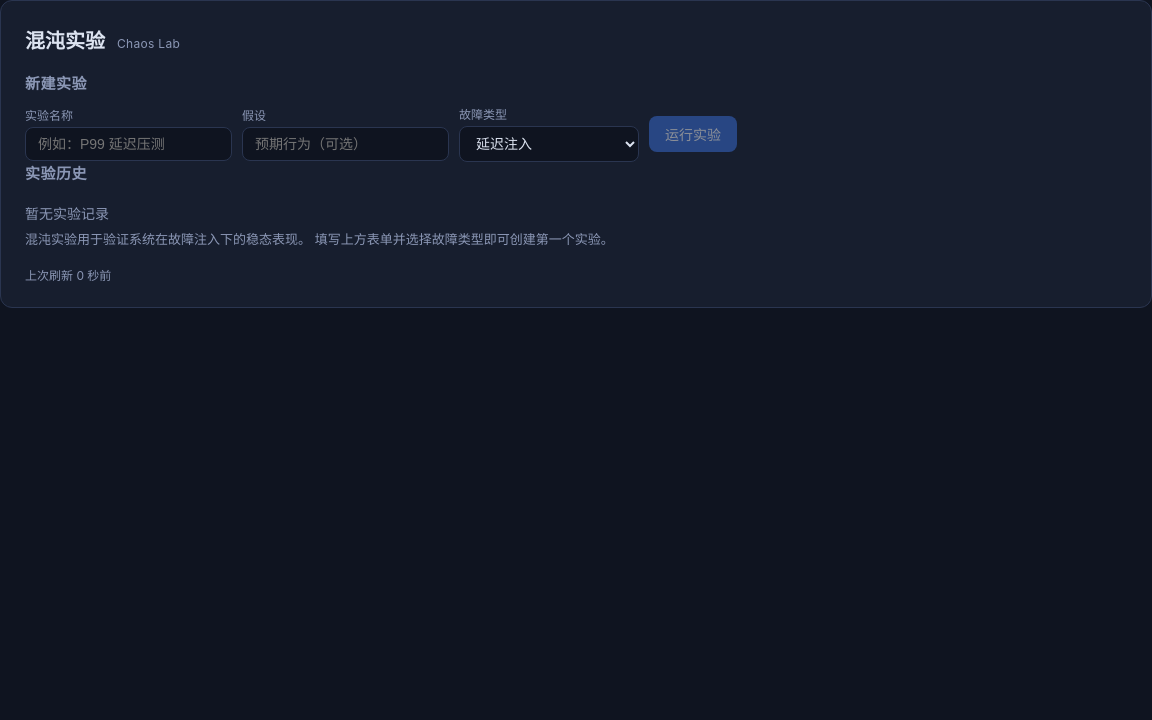
Test: Chaos Lab 加固 › 破坏性故障类型（进程终止）触发两步确认
Type "kill 实验" into the field labelled "实验名称". click: {"x": 128, "y": 144}
box: [25,127,232,161]
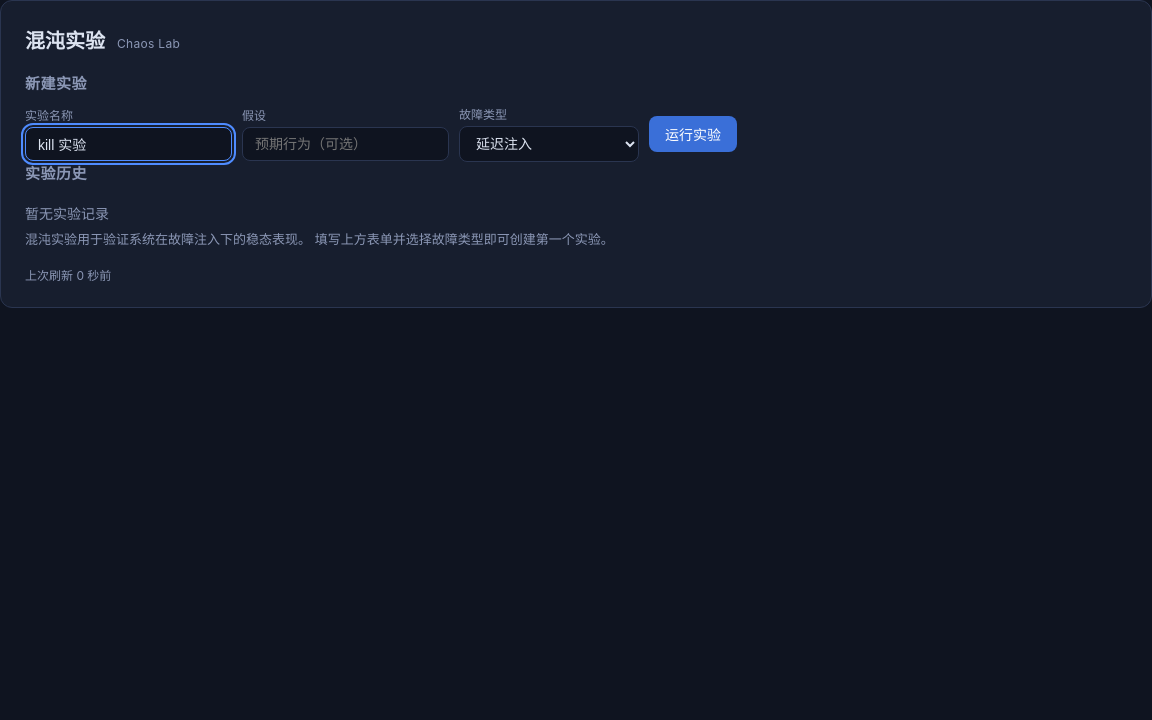
Select "进程终止" in the dropdown. click: {"x": 549, "y": 144}
box: [459,126,639,162]
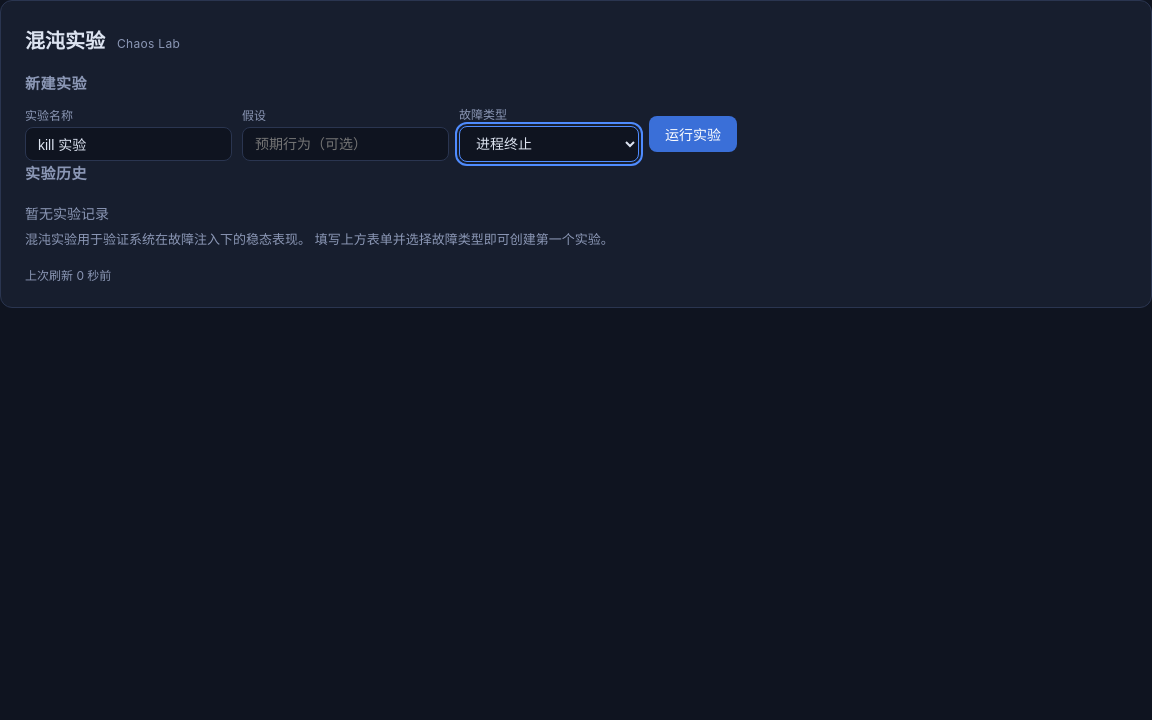
Click the button "运行实验". click: {"x": 693, "y": 134}
box: [649,116,737,152]
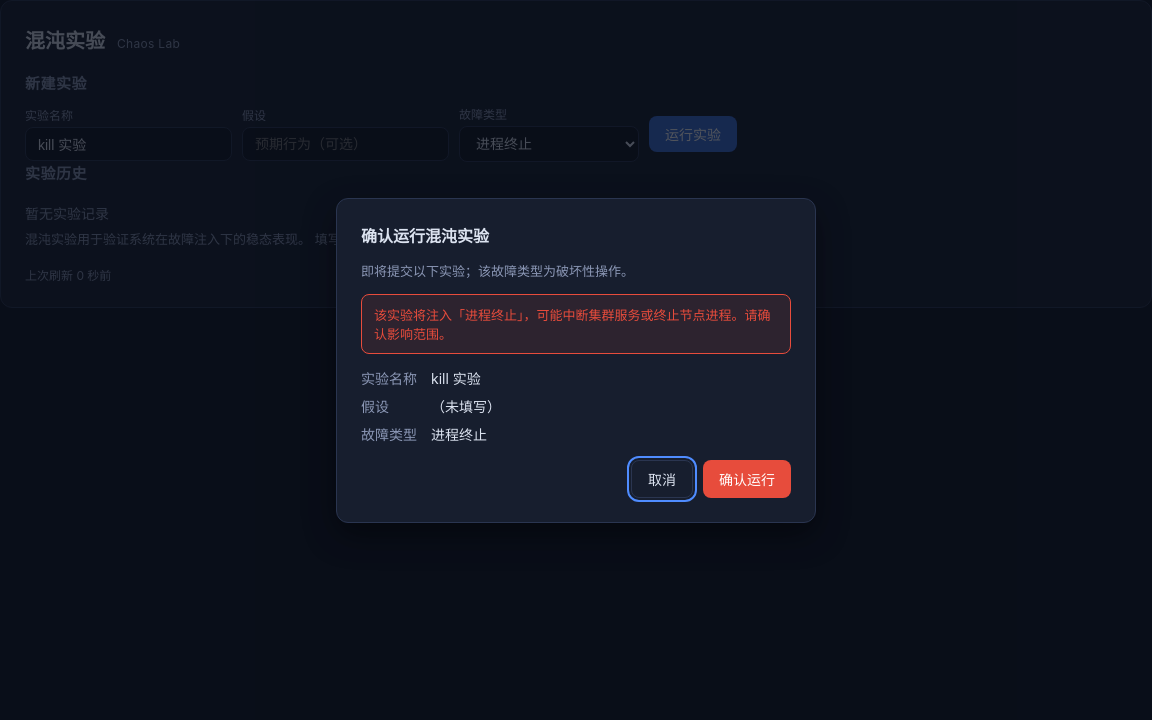
Now the dialog is shown, box [336,198,816,522]
